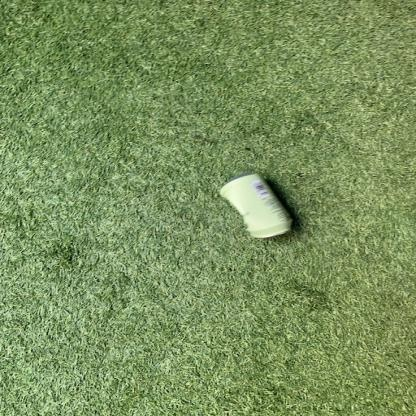trash: (220, 174, 291, 237)
